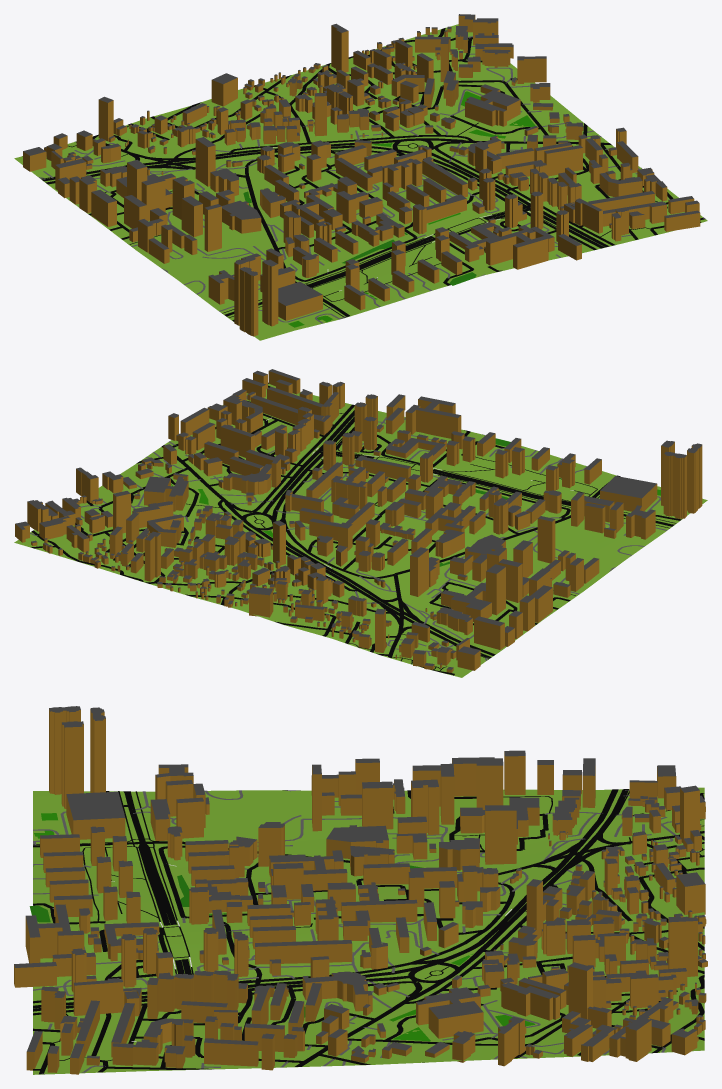
File: tile_07_05.glb
3 views of the same model, one above another, from view 1: azimuth 30°, elevation 25°; view 2: azimuth 150°, elevation 25°; view 3: azimuth 270°, elevation 25° (orthographic). The views are drawn at different scales.
Visible parts, largest first — view 1: Ub_small.osm_buildings_07_05, Terrain_07_05, Ub_small.osm_roads_residential_07_05, Ub_small.osm_roads_primary_07_05, Ub_small.osm_roads_service_07_05, Ub_small.osm_roads_tertiary_07_05, Ub_small.osm_paths_footway_07_05, Ub_small.osm_roads_secondary_07_05, Ub_small.osm_vegetation_07_05; view 2: Ub_small.osm_buildings_07_05, Terrain_07_05, Ub_small.osm_roads_residential_07_05, Ub_small.osm_roads_primary_07_05, Ub_small.osm_roads_service_07_05, Ub_small.osm_roads_tertiary_07_05, Ub_small.osm_paths_footway_07_05, Ub_small.osm_roads_secondary_07_05; view 3: Ub_small.osm_buildings_07_05, Terrain_07_05, Ub_small.osm_roads_residential_07_05, Ub_small.osm_roads_primary_07_05, Ub_small.osm_roads_service_07_05, Ub_small.osm_paths_footway_07_05, Ub_small.osm_roads_tertiary_07_05, Ub_small.osm_vegetation_07_05, Ub_small.osm_roads_secondary_07_05, Ub_small.osm_forest_07_05.
Boxes of the visible parts, x1,y1,x2,y2 form: Ub_small.osm_buildings_07_05: (23, 14, 700, 336); Terrain_07_05: (14, 24, 707, 340); Ub_small.osm_roads_residential_07_05: (88, 28, 705, 321); Ub_small.osm_roads_primary_07_05: (42, 138, 611, 316); Ub_small.osm_roads_service_07_05: (38, 36, 704, 323); Ub_small.osm_roads_tertiary_07_05: (245, 148, 614, 250); Ub_small.osm_paths_footway_07_05: (22, 122, 657, 317); Ub_small.osm_roads_secondary_07_05: (92, 139, 436, 316); Ub_small.osm_vegetation_07_05: (288, 91, 535, 327); Ub_small.osm_buildings_07_05: (15, 369, 702, 672); Terrain_07_05: (14, 383, 707, 677); Ub_small.osm_roads_residential_07_05: (31, 382, 681, 674); Ub_small.osm_roads_primary_07_05: (161, 410, 674, 658); Ub_small.osm_roads_service_07_05: (30, 396, 667, 660); Ub_small.osm_roads_tertiary_07_05: (252, 404, 394, 578); Ub_small.osm_paths_footway_07_05: (186, 413, 676, 675); Ub_small.osm_roads_secondary_07_05: (251, 475, 620, 657); Ub_small.osm_buildings_07_05: (14, 706, 707, 1074); Terrain_07_05: (33, 787, 704, 1074); Ub_small.osm_roads_residential_07_05: (33, 790, 704, 1074); Ub_small.osm_roads_primary_07_05: (33, 789, 630, 1066); Ub_small.osm_roads_service_07_05: (33, 790, 676, 1074); Ub_small.osm_paths_footway_07_05: (33, 791, 704, 1061); Ub_small.osm_roads_tertiary_07_05: (33, 882, 514, 1015); Ub_small.osm_vegetation_07_05: (33, 813, 535, 1041); Ub_small.osm_roads_secondary_07_05: (33, 831, 704, 982); Ub_small.osm_forest_07_05: (29, 865, 423, 1017).
Size of the model in its own units: 1010 by 128 by 961.
